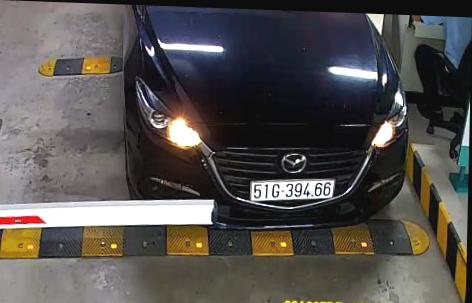License_Plate: (250, 175, 338, 205)
